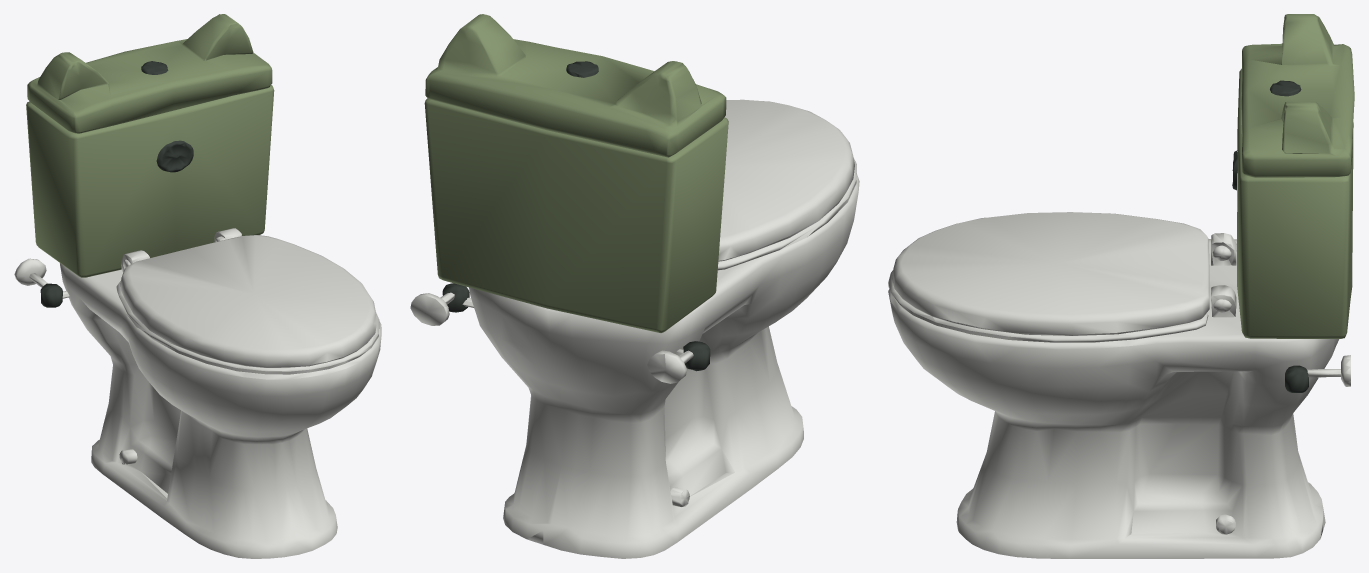
File: bath_toilet.glb
The picture shows the model from 3 angles, left to right: view 1: azimuth 30°, elevation 25°; view 2: azimuth 150°, elevation 25°; view 3: azimuth 270°, elevation 25°; orthographic projection. The views are drawn at different scales.
Bounding box in the file's own units: 0.95 × 1.65 × 1.51.
